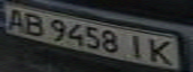4: (63, 20, 87, 47)
5: (81, 25, 103, 52)
8: (100, 28, 121, 55)
9: (42, 16, 69, 43)
A: (0, 4, 30, 32)
B: (18, 10, 48, 37)
I: (124, 33, 151, 61)
K: (145, 37, 181, 66)
